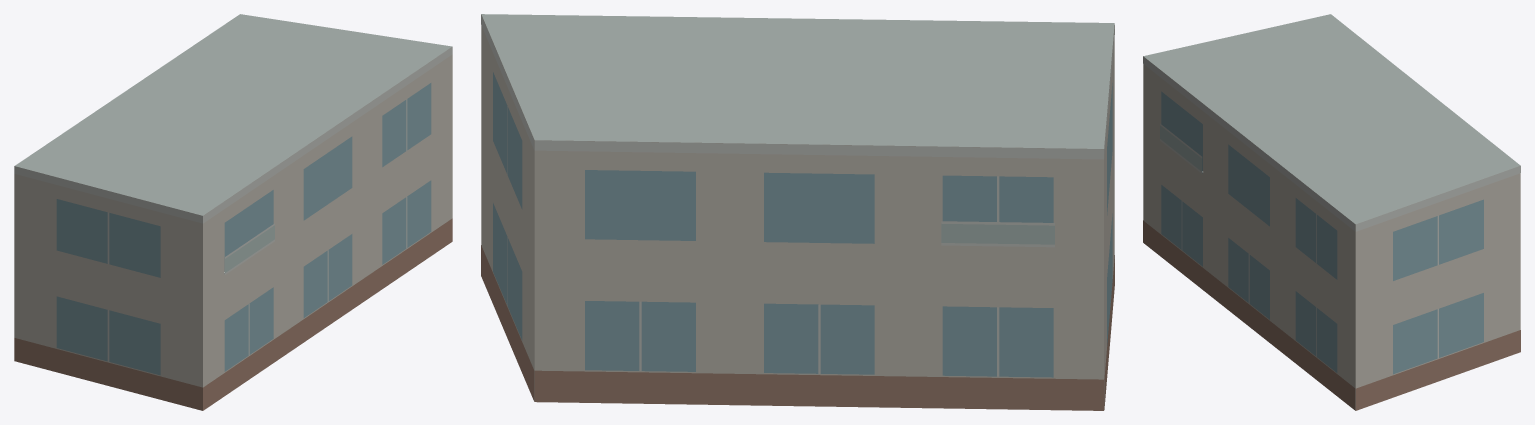
The model's file is survey-upis-32966886.glb.
3 renders of one model, left to right at view 1: azimuth 30°, elevation 25°; view 2: azimuth 150°, elevation 25°; view 3: azimuth 270°, elevation 25°, orthographic. The views are drawn at different scales.
Visible parts, largest first — view 1: survey-upis-32966886.tmp; view 2: survey-upis-32966886.tmp; view 3: survey-upis-32966886.tmp.
Part boxes in pixels (x1,y1,x2,y2): survey-upis-32966886.tmp: (14, 14, 452, 410); survey-upis-32966886.tmp: (481, 14, 1114, 410); survey-upis-32966886.tmp: (1143, 14, 1520, 410).
Bounding box in the file's own units: 14.77 × 6.1 × 11.21.
